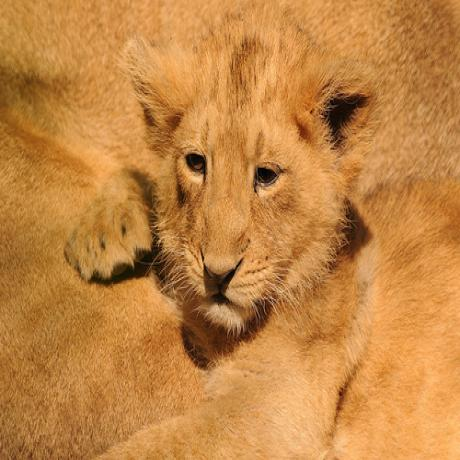Lion: (69, 16, 375, 368)
